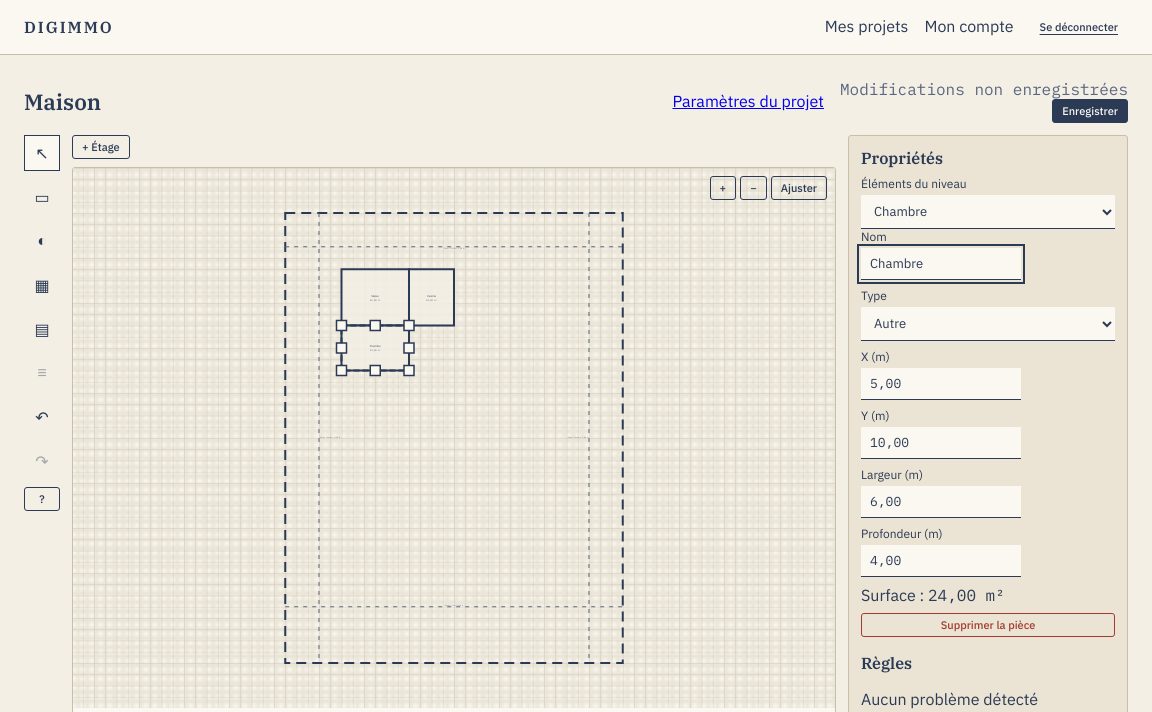
Scenario: parcours complet de l'éditeur › maison à deux niveaux dessinée à la souris : aucune erreur, sauvegarde automatique valide
Earlier steps of the test are not shown.
Later steps or results of the test are not shown.
Select "Chambre" in the dropdown labelled "Type". click: (988, 324)
box: [861,307,1115,341]
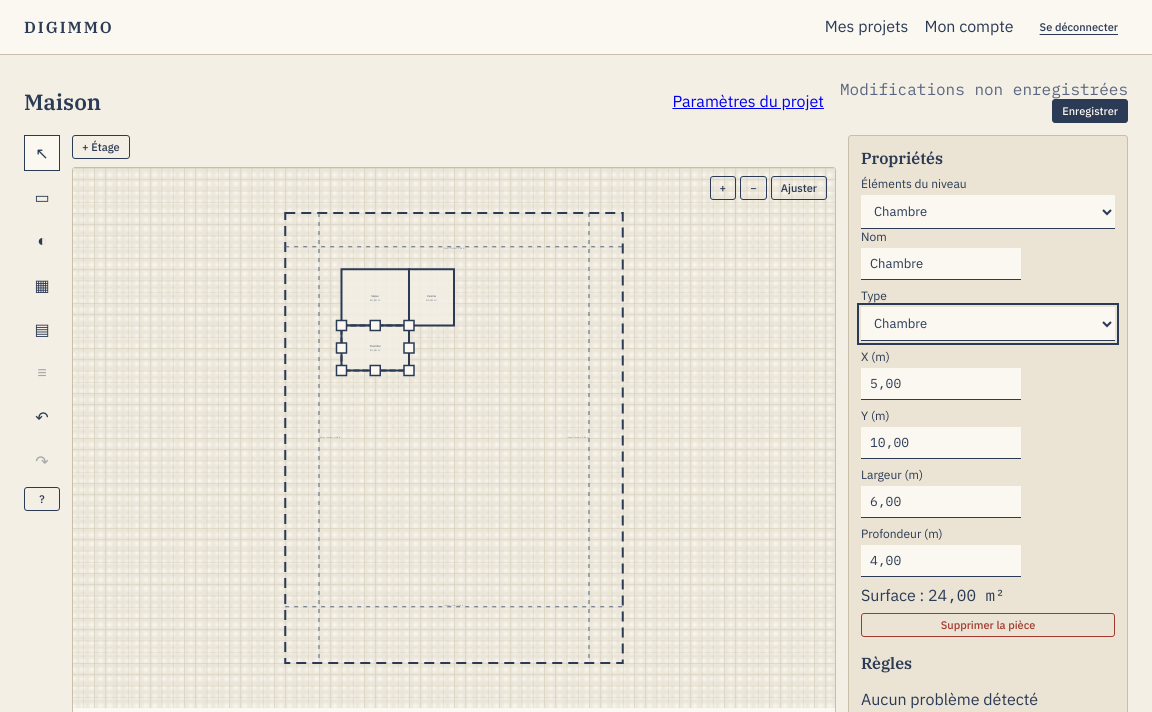
Click the button named "Porte (D)". click: (42, 241)
box: [24,223,60,259]
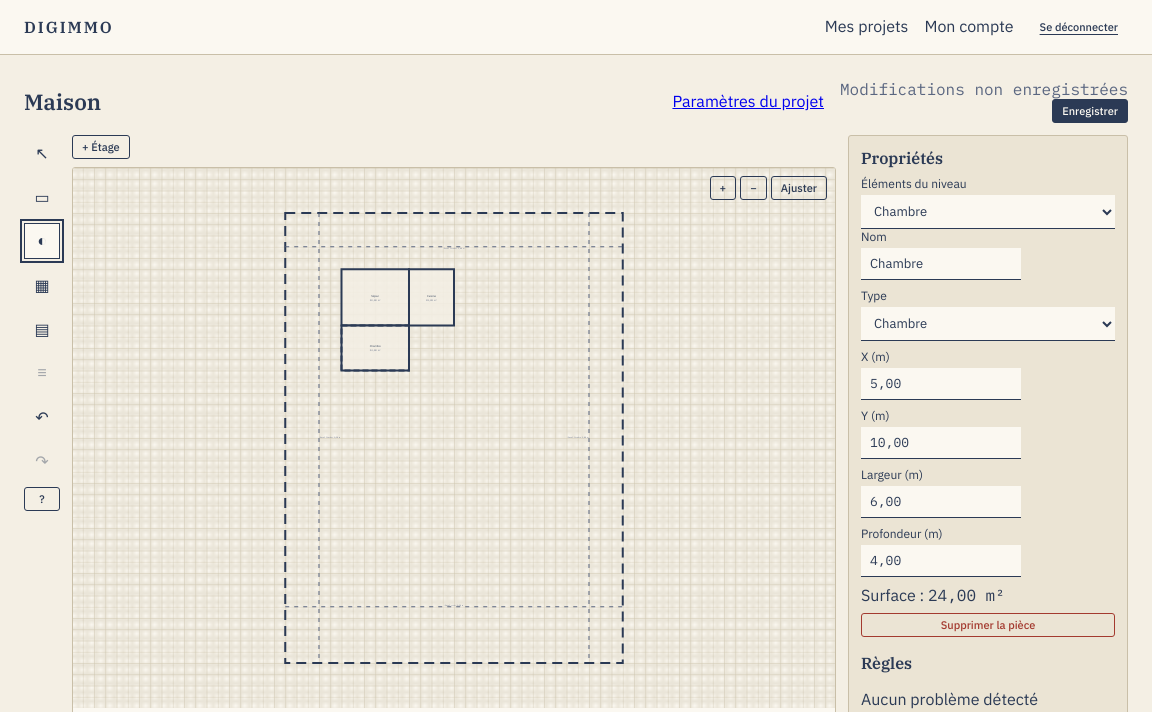
Press the mouse on the picture named "Plan du projet" at (454, 438), box [73,168,835,708]
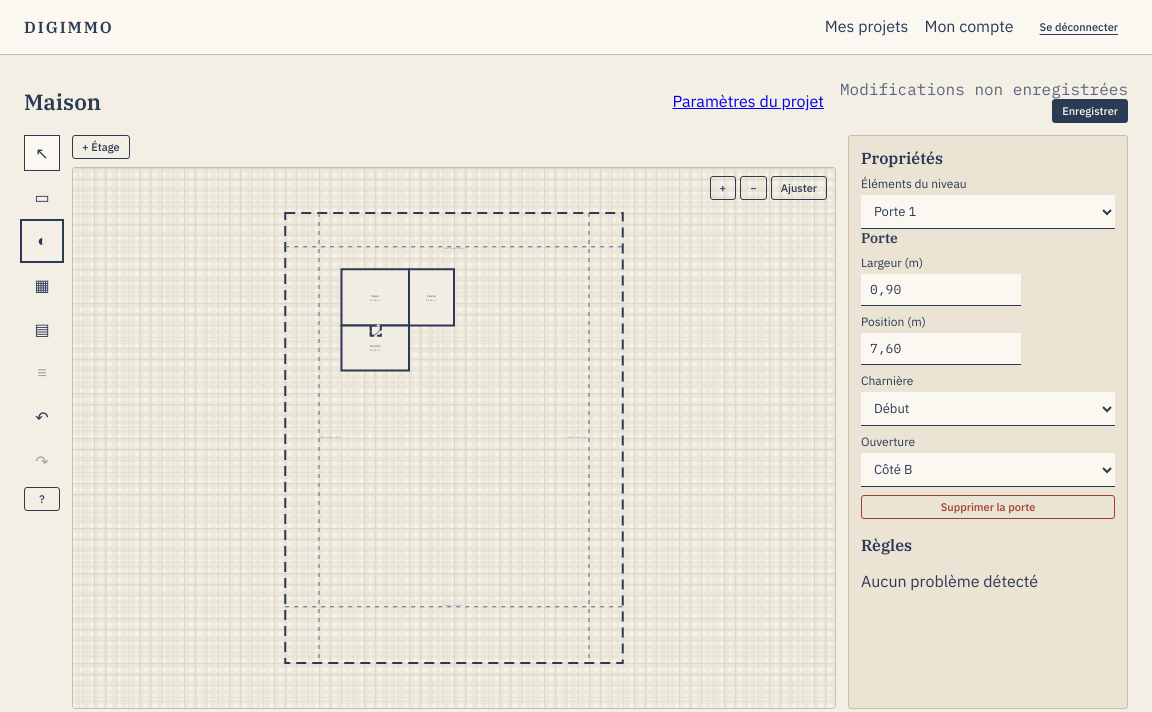
Expected: the heading "Porte" is shown, [861,229,898,247]
Click the button named "Meuble (M)". click: (42, 329)
box: [24,311,60,347]
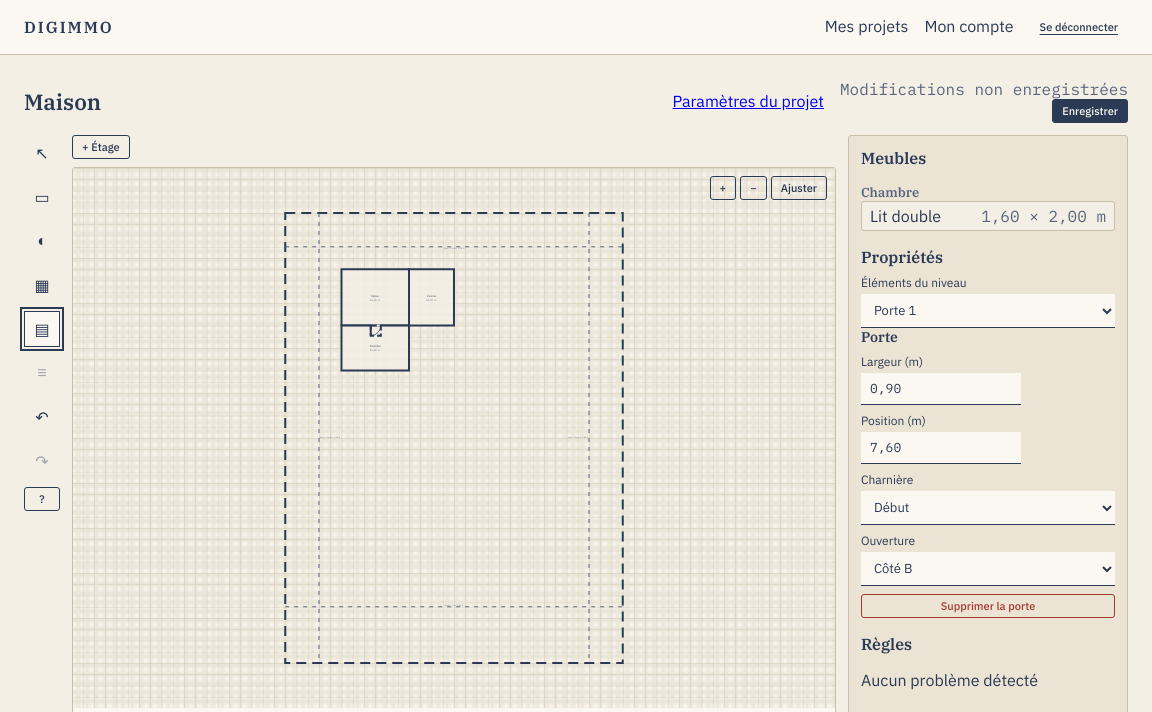
Click the button "Lit double 1,60 × 2,00 m". click: (988, 216)
box: [861,201,1115,231]
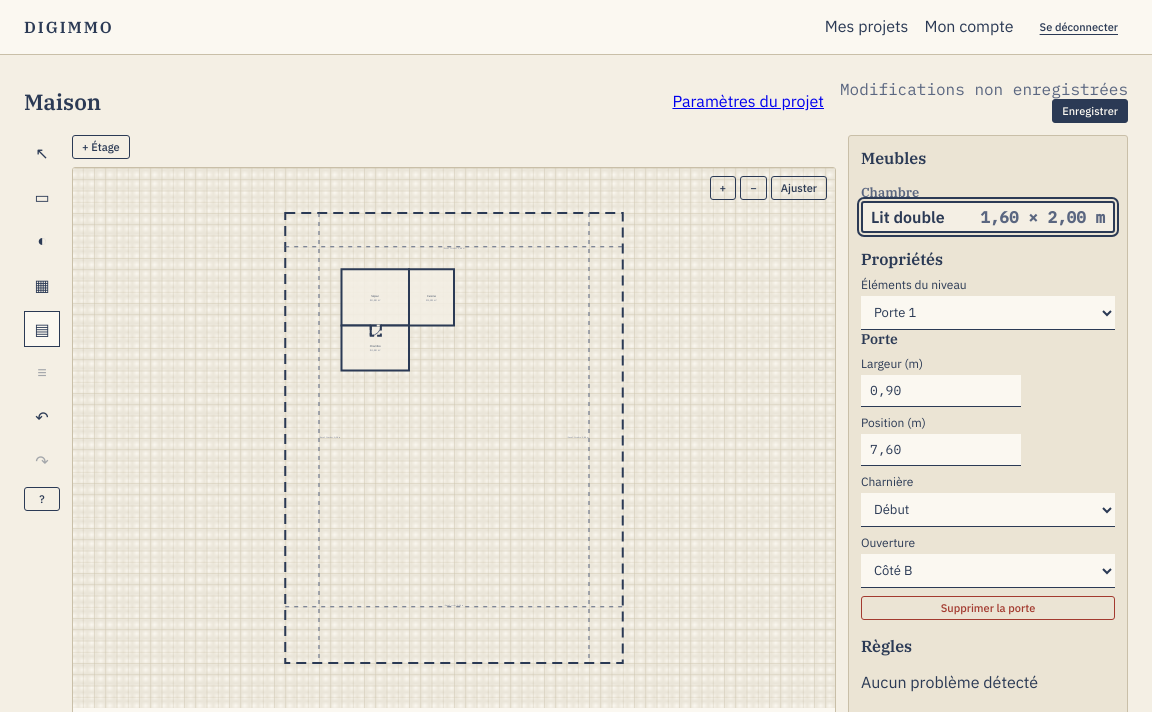
Press the mouse on the picture named "Plan du projet" at (454, 438), box [73,168,835,708]
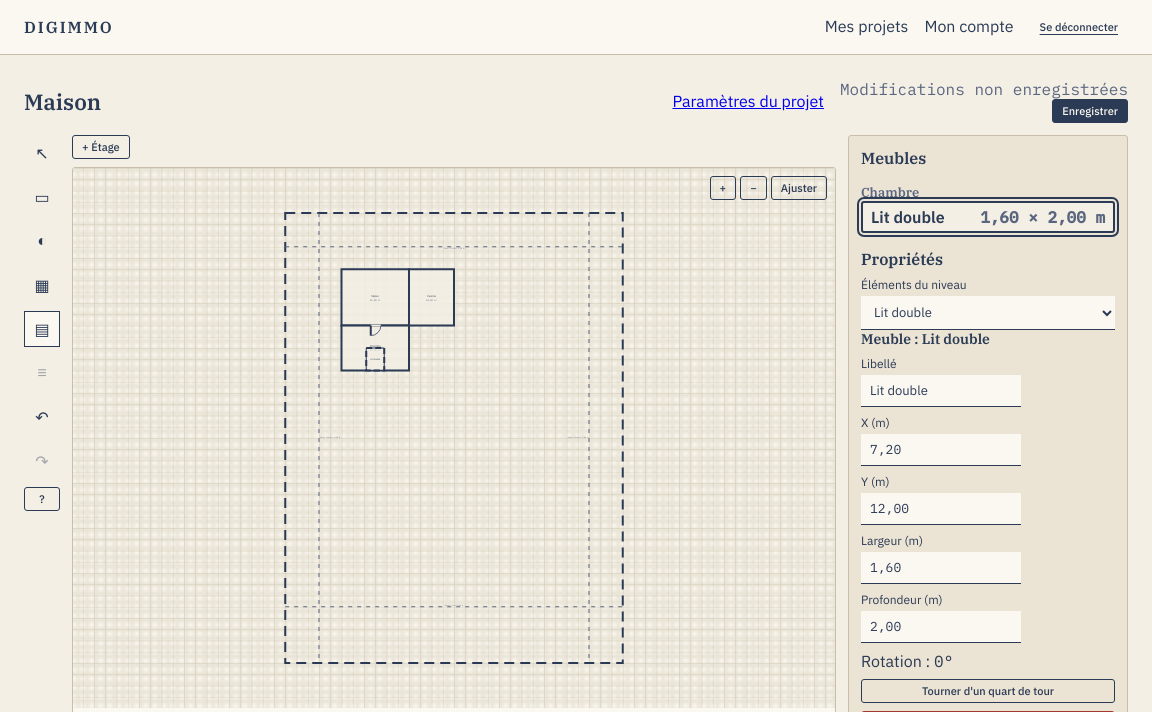
Expected: the heading "Meuble : Lit double" is shown, [861,330,990,348]
